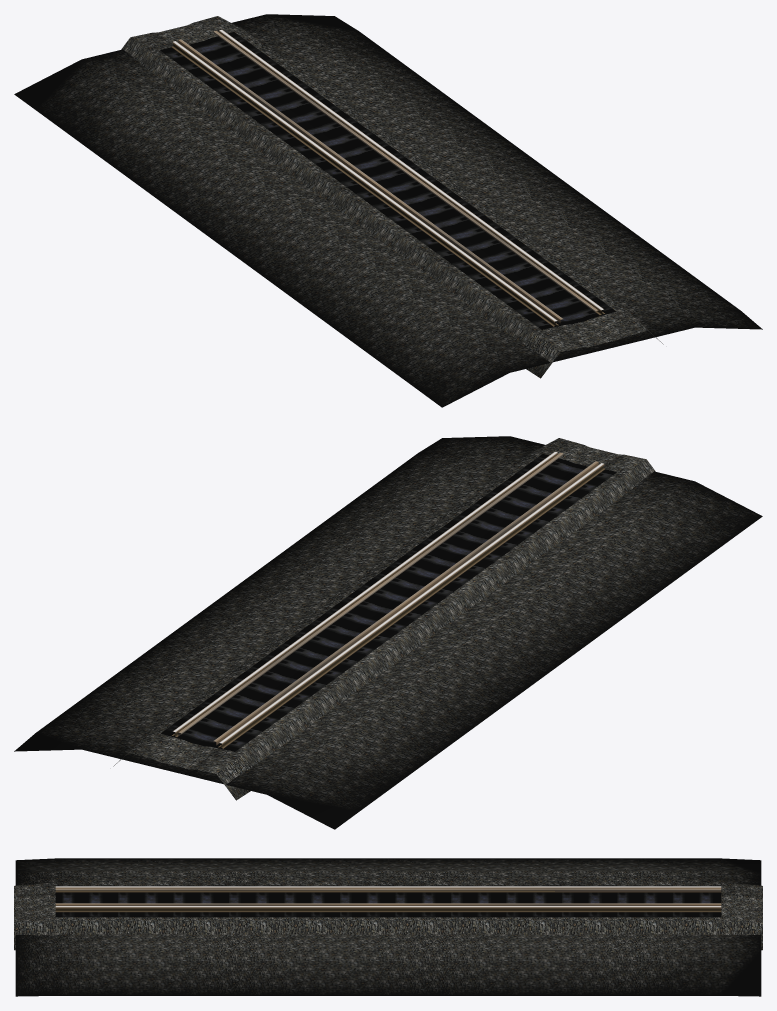
The model's file is TOB_1RAIL_50G.glb.
The picture shows the model from 3 angles, top to bottom: view 1: azimuth 30°, elevation 25°; view 2: azimuth 150°, elevation 25°; view 3: azimuth 270°, elevation 25°; orthographic projection. The views are drawn at different scales.
Visible parts, largest first — view 1: obj2, R000_RG_R1, R000_RG_L1; view 2: obj2, R000_RG_R1, R000_RG_L1; view 3: obj2, R000_RG_R1, R000_RG_L1.
Boxes of the visible parts, box(x1,y1,x2,y2) form: obj2: box(14, 14, 762, 407); R000_RG_R1: box(178, 39, 562, 323); R000_RG_L1: box(213, 30, 598, 312); obj2: box(14, 436, 762, 829); R000_RG_R1: box(213, 461, 598, 745); R000_RG_L1: box(178, 452, 563, 736); obj2: box(14, 858, 762, 996); R000_RG_R1: box(55, 888, 721, 891); R000_RG_L1: box(55, 903, 721, 905).
Size of the model in its own units: 24.42 by 2.65 by 56.25.
6 materials, 6 textured.
